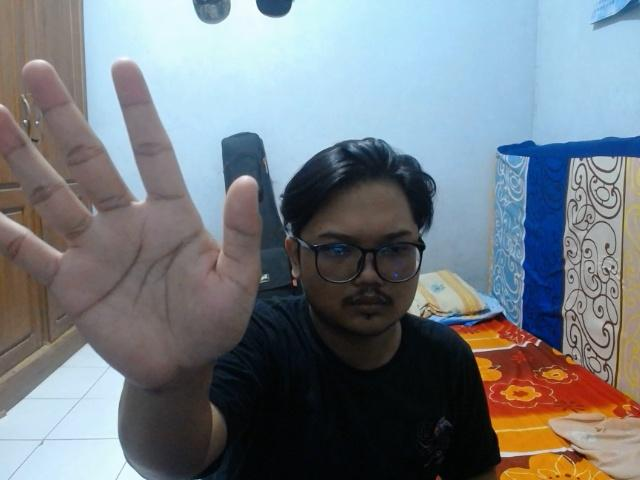Release: (0, 50, 271, 400)
